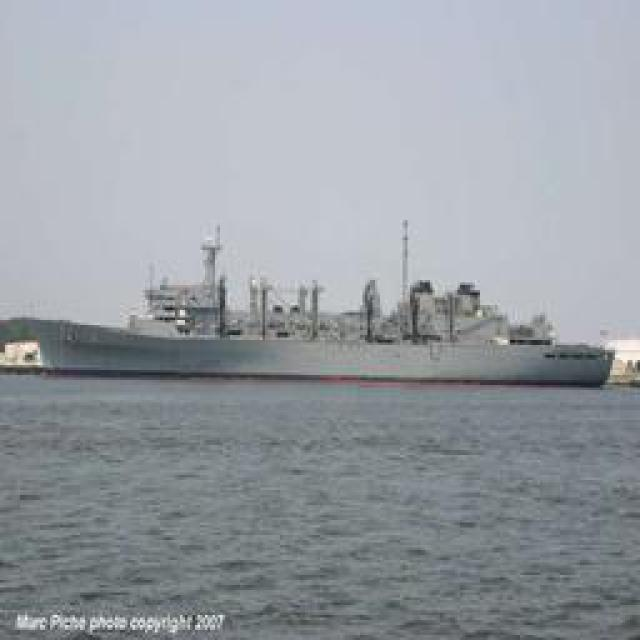Ship: (24, 321, 607, 386)
